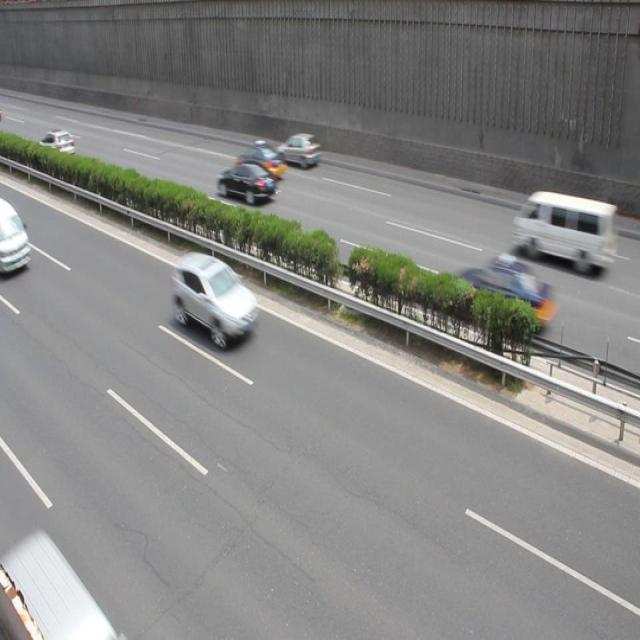car: (172, 251, 259, 350), (449, 254, 556, 334), (216, 161, 276, 203), (234, 141, 288, 183), (277, 131, 322, 169), (36, 128, 76, 162)
truck: (511, 188, 609, 272), (1, 199, 31, 276)
